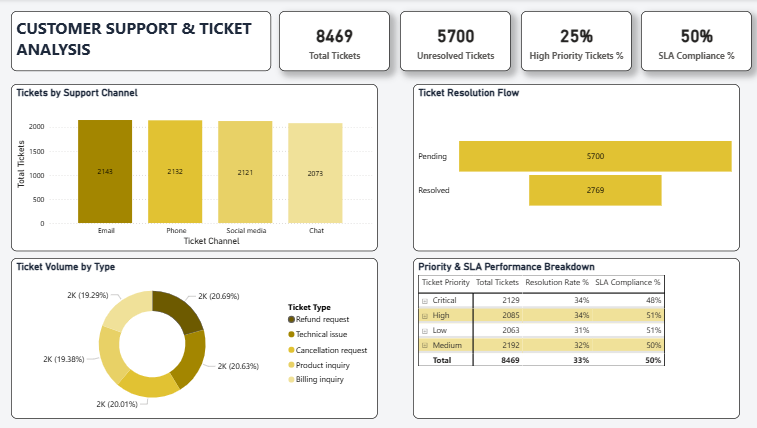

The dashboard page shown, as its layout file describes it:
{"tool":"powerbi","page":{"name":"Page 1","canvas":[1280,720],"ordinal":0},"visuals":[{"type":"card","fields":{"Values":["customer_support_tickets_datase.total tickets"]},"box":[473.7,20.2,186.5,100.8],"z":0},{"type":"card","fields":{"Values":["customer_support_tickets_datase.open/unresolved tickets"]},"box":[677,20.2,186.5,100.8],"z":1000},{"type":"card","fields":{"Values":["customer_support_tickets_datase.High Priority %"]},"box":[880.2,20.2,186.5,100.8],"z":2000},{"type":"card","fields":{"Values":["customer_support_tickets_datase.SLA Met %"]},"box":[1081.8,20.2,186.5,100.8],"z":3000},{"type":"funnel","title":"Ticket Resolution Flow","fields":{"Category":["customer_support_tickets_datase.Resolution Performance"],"Y":["customer_support_tickets_datase.total tickets"]},"box":[698.8,142.8,549.3,280.5],"z":4000},{"type":"donutChart","title":"Ticket Volume by Type","fields":{"Category":["customer_support_tickets_datase.Ticket Type"],"Y":["customer_support_tickets_datase.total tickets"]},"box":[23.5,435.1,616.5,270.4],"z":5000},{"type":"pivotTable","title":"Priority & SLA Performance Breakdown","fields":{"Rows":["customer_support_tickets_datase.Ticket Priority","customer_support_tickets_datase.Ticket Channel"],"Values":["customer_support_tickets_datase.total tickets","customer_support_tickets_datase.Resolution Rate","customer_support_tickets_datase.SLA Met %"]},"box":[698.8,435.1,549.3,270.4],"z":6000},{"type":"columnChart","title":"Tickets by Support Channel","fields":{"Category":["customer_support_tickets_datase.Ticket Channel"],"Y":["customer_support_tickets_datase.total tickets"]},"box":[23.5,142.8,616.5,280.5],"z":7000},{"type":"textbox","box":[23.5,20.2,436.7,100.8],"z":8000}]}

Visuals, with their boxes in screenshot pixels (x1, y1, x2, y2), scaled from the page's 1280x720 canvas onto the 757x428 screenshot:
card - customer_support_tickets_datase.total tickets: detection(280, 12, 390, 72)
card - customer_support_tickets_datase.open/unresolved tickets: detection(400, 12, 511, 72)
card - customer_support_tickets_datase.High Priority %: detection(521, 12, 631, 72)
card - customer_support_tickets_datase.SLA Met %: detection(640, 12, 750, 72)
"Ticket Resolution Flow" funnel: detection(413, 85, 738, 252)
"Ticket Volume by Type" donutChart: detection(14, 259, 378, 419)
"Priority & SLA Performance Breakdown" pivotTable: detection(413, 259, 738, 419)
"Tickets by Support Channel" columnChart: detection(14, 85, 378, 252)
textbox: detection(14, 12, 272, 72)
